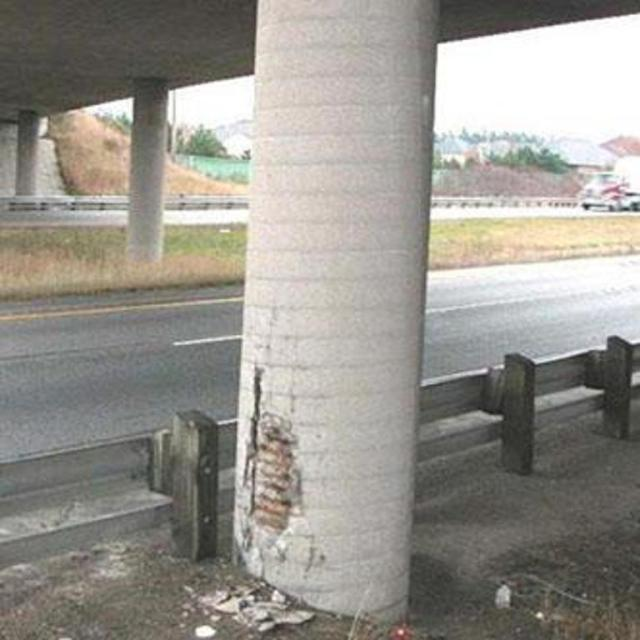spalling: (233, 360, 302, 579)
